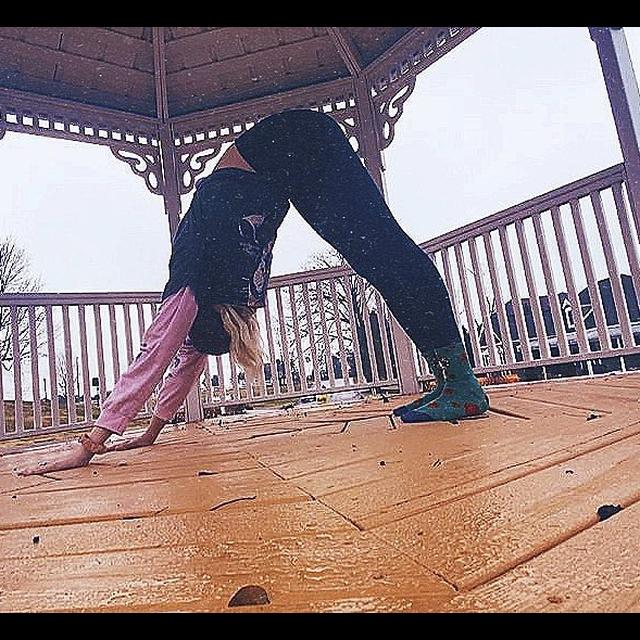Downward-Facing_Dog: (7, 107, 497, 480)
